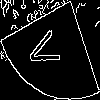V: (25, 25, 68, 74)
